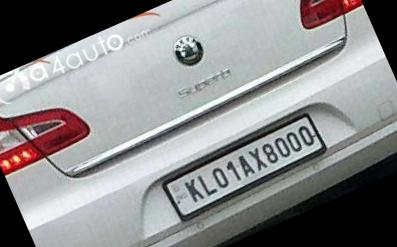plate: (157, 100, 352, 227)
